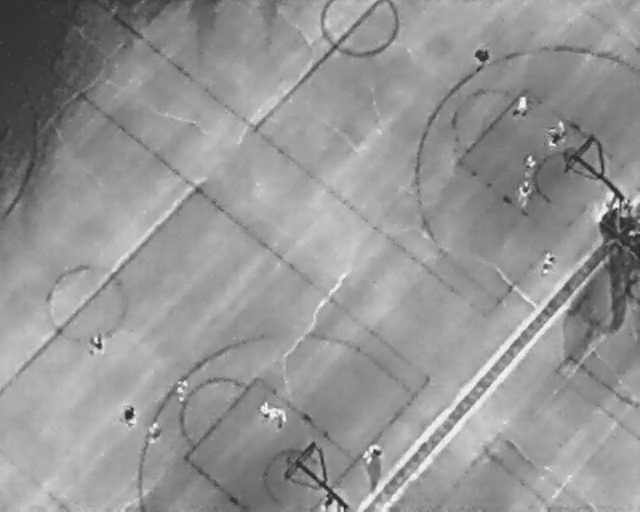Person: (362, 443, 384, 466), (90, 332, 104, 358), (475, 45, 489, 70), (146, 421, 162, 442), (123, 402, 136, 427), (519, 179, 530, 208), (543, 250, 555, 276), (272, 406, 286, 427), (548, 126, 559, 150), (516, 95, 529, 115), (257, 401, 270, 421), (524, 155, 536, 176), (556, 120, 566, 142), (178, 379, 187, 400)
